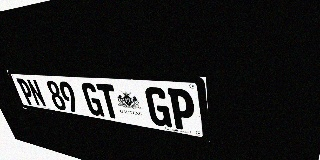8: (45, 80, 67, 111)
9: (57, 81, 80, 113)
G: (144, 87, 172, 128), (80, 82, 105, 117)
N: (26, 79, 47, 107)
P: (167, 88, 196, 132), (16, 78, 37, 106)
T: (96, 83, 121, 120)
